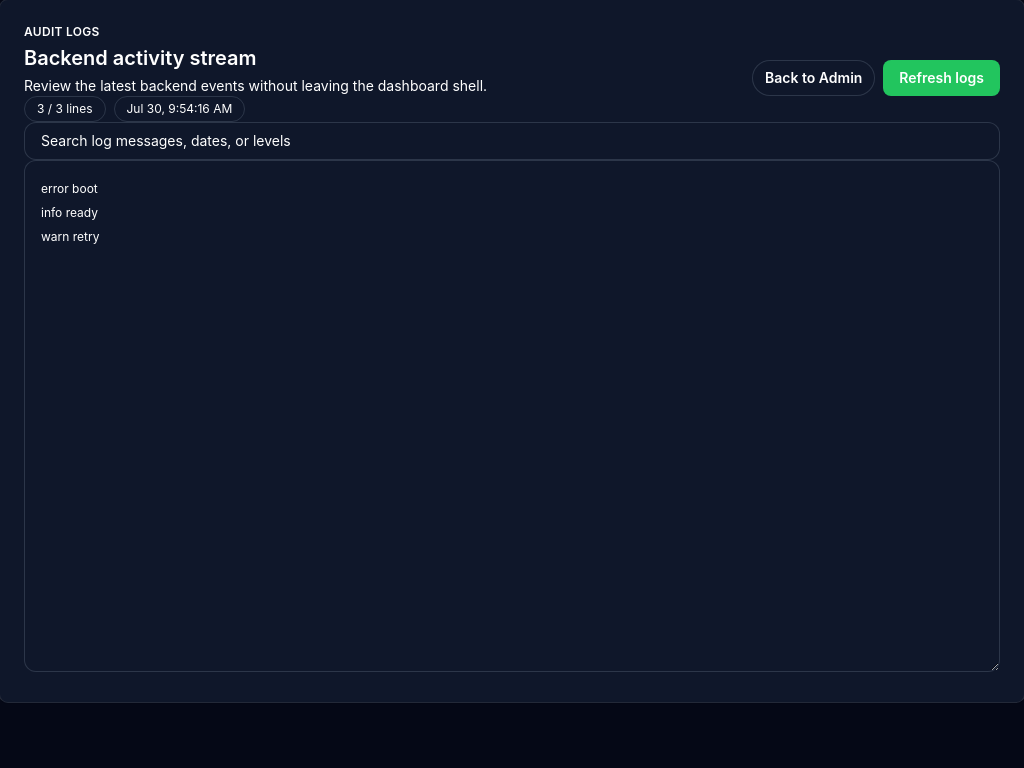
Test: AuditLogs › filters log lines by search term
Type "error" into the search field with placeholder "Search log messages, dates, or levels" at (512, 141), box [24,122,1000,160]
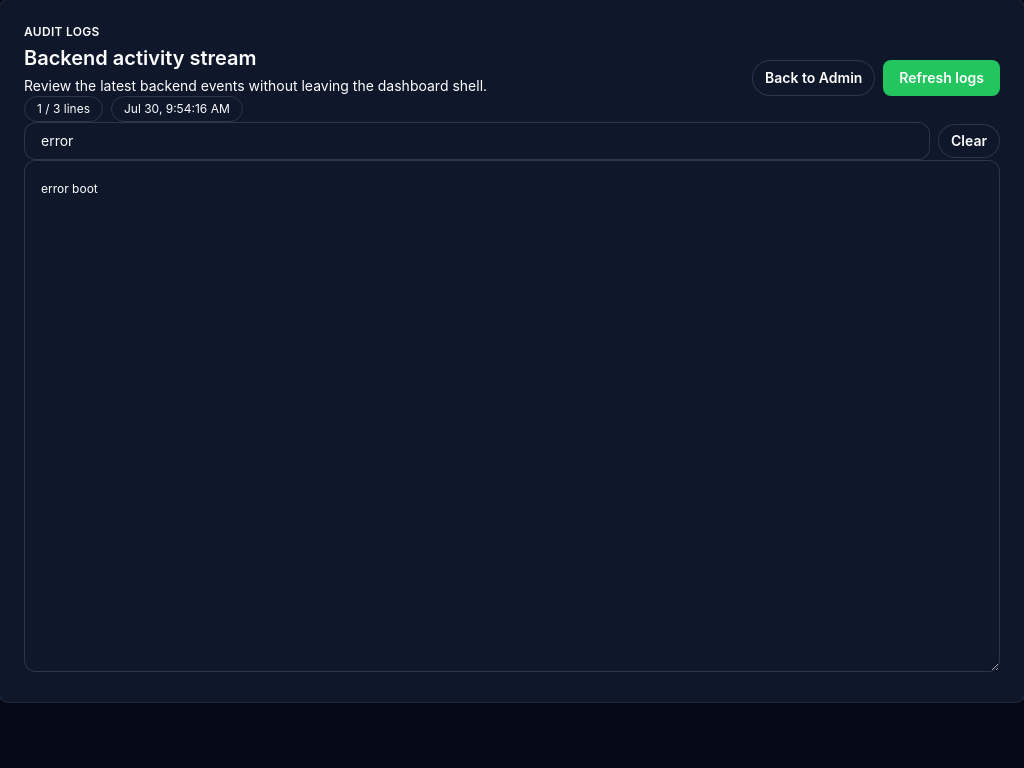
Expected: the field showing "info ready" is not shown
Result: the text "1 / 3 lines" is shown at [24,96,103,122]
